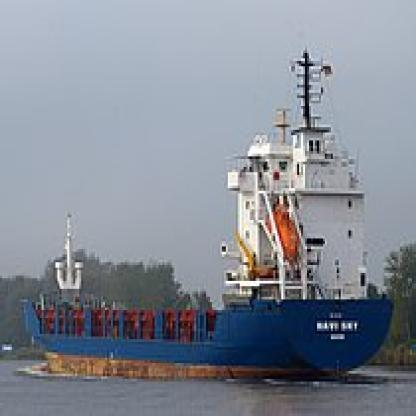Tanker: (18, 45, 400, 392)
